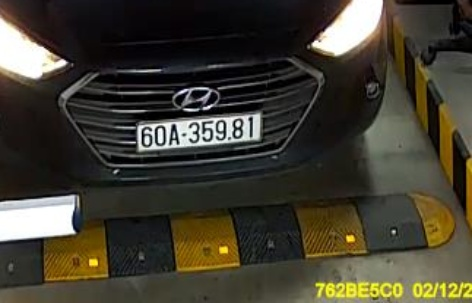plate: (132, 112, 264, 154)
